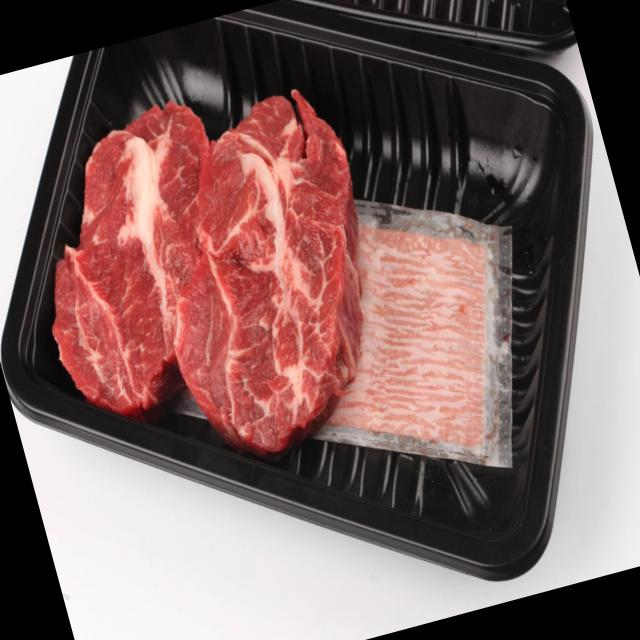pork: (0, 0, 456, 552)
